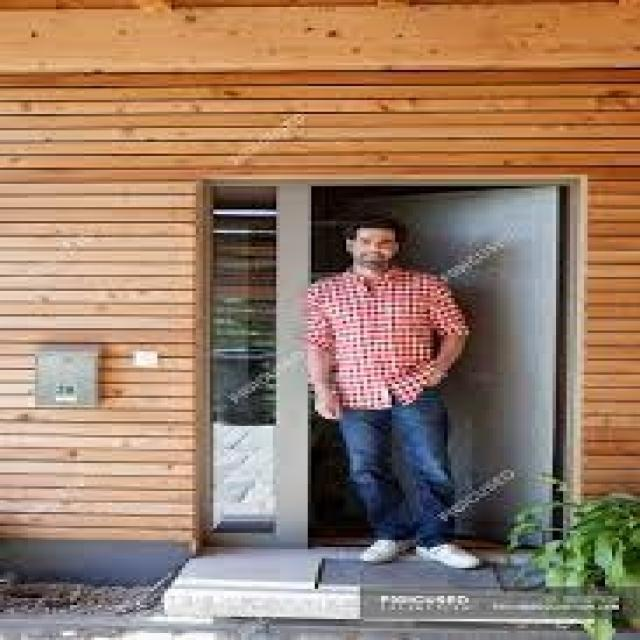walking: (287, 204, 479, 574)
